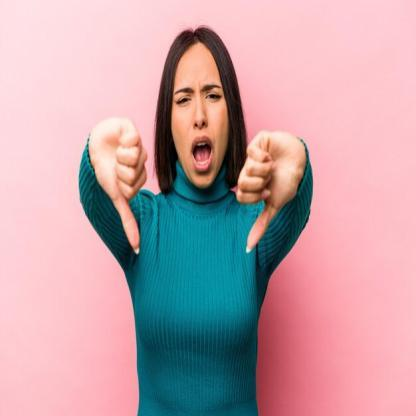thumb_down: (88, 110, 152, 258), (230, 125, 298, 256)
